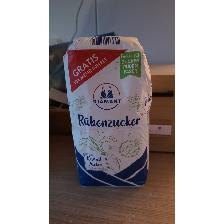Zucker: (63, 36, 155, 188)
